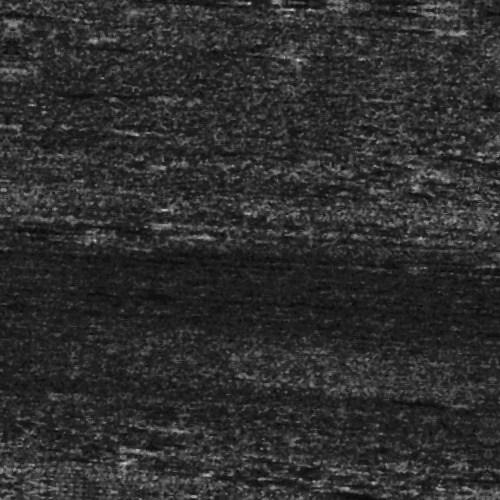object: (391, 0, 464, 7), (223, 0, 286, 5), (0, 137, 14, 146), (0, 79, 20, 84)
shadow: (42, 0, 254, 5), (348, 0, 427, 7), (310, 16, 427, 19)
